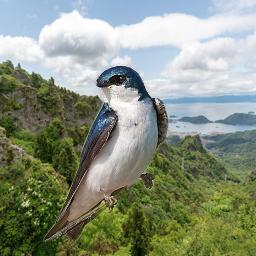Swallow: (43, 63, 169, 243)
